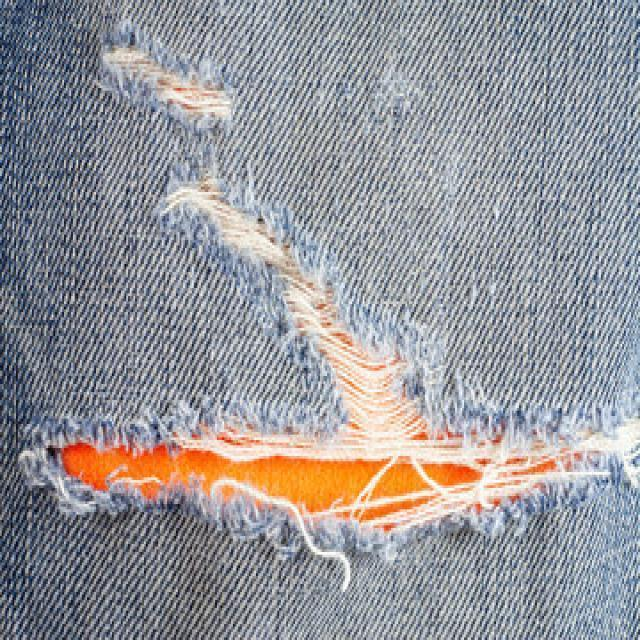Hole: (20, 177, 640, 590), (100, 24, 233, 132)
